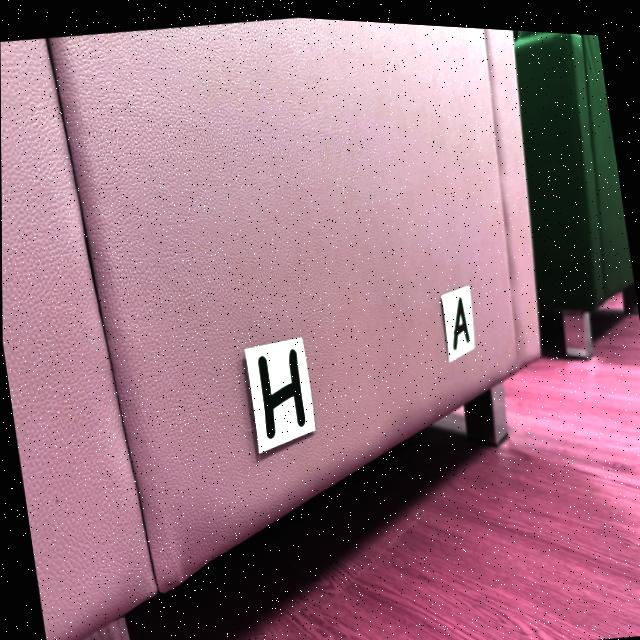A: (453, 292, 470, 344)
H: (258, 346, 305, 436)
